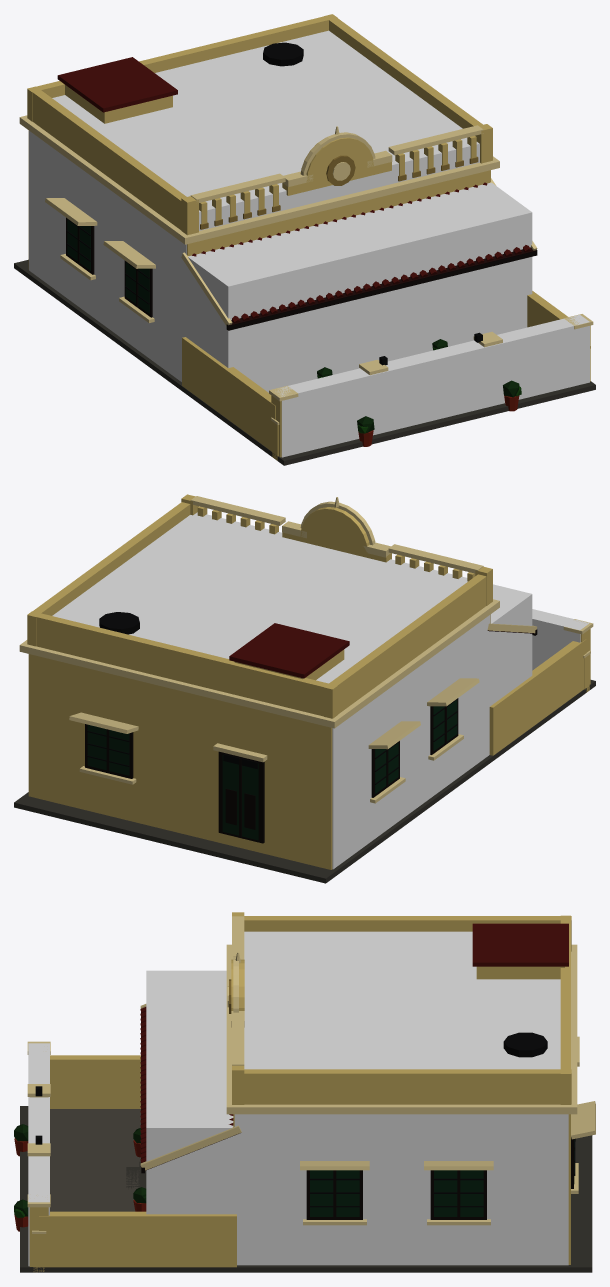
File: B01_trad_house.glb
3 renders of one model, top to bottom at view 1: azimuth 30°, elevation 25°; view 2: azimuth 150°, elevation 25°; view 3: azimuth 270°, elevation 25°, orthographic. The views are drawn at different scales.
Visible parts, largest first — view 1: LOD0, COL_Main, COL_Verandah, COL_Compound; view 2: LOD0, COL_Main, COL_Verandah, COL_Compound; view 3: COL_Main, LOD0, COL_Verandah, COL_Compound.
Part boxes in pixels (x1,y1,x2,y2): LOD0: (14,14,595,465); COL_Main: (29,30,479,381); COL_Verandah: (183,182,532,392); COL_Compound: (275,314,589,457); LOD0: (14,494,595,883); COL_Main: (52,512,490,869); COL_Verandah: (487,584,532,718); COL_Compound: (532,609,588,670); COL_Main: (234,931,568,1265); LOD0: (14,912,595,1272); COL_Verandah: (146,970,241,1265); COL_Compound: (28,1043,49,1266).
Size of what is drawn, in the model's own units: 8.81 by 5.54 by 12.2.
